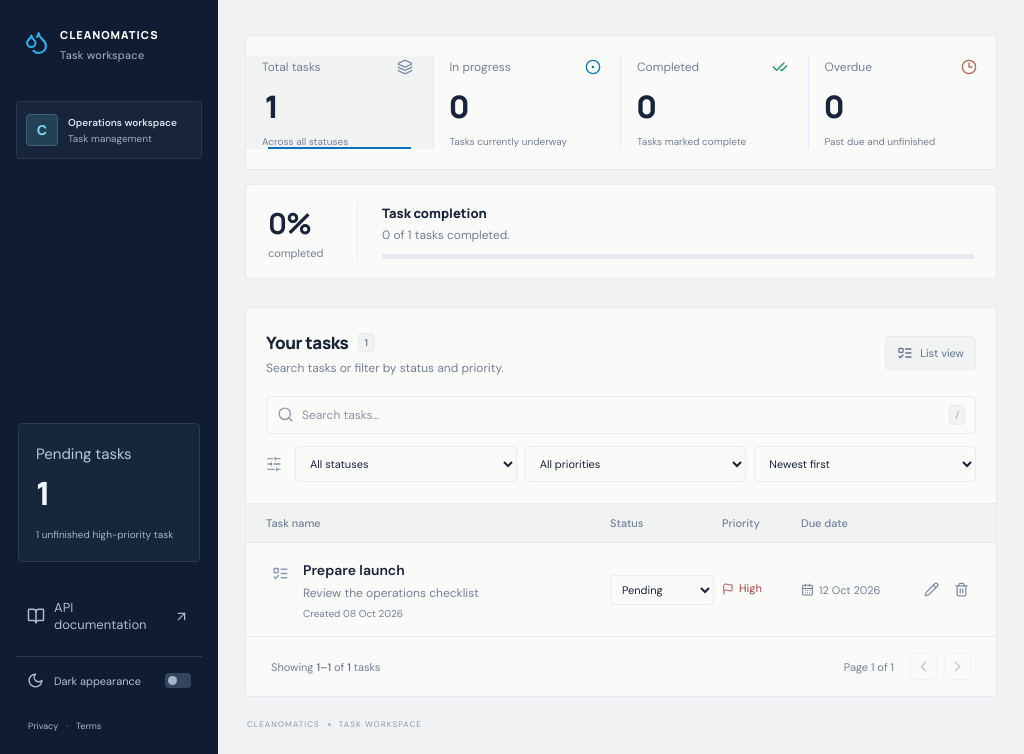
Scenario: workspace journeys › edits task and confirms deletion
(page scrolled)
Click the button named "Edit task".
click(932, 590)  # box [917,575,946,604]
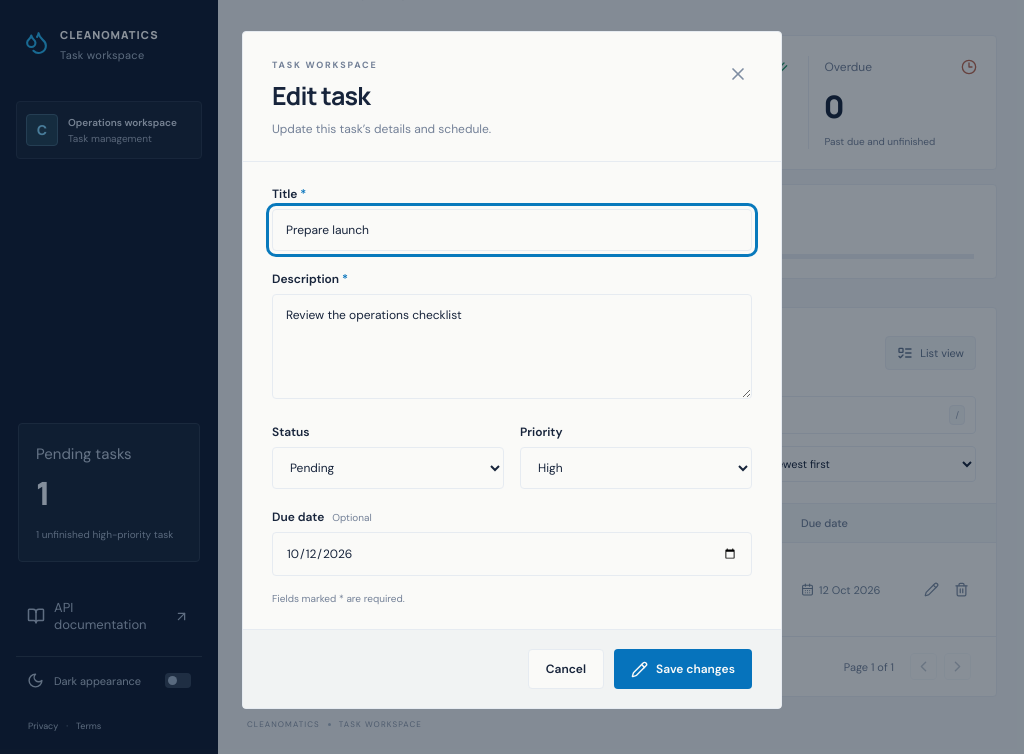
Replace the text in the field labelled "Title" with "Launch ready" at {"x": 512, "y": 230}, box [272,209,752,251]
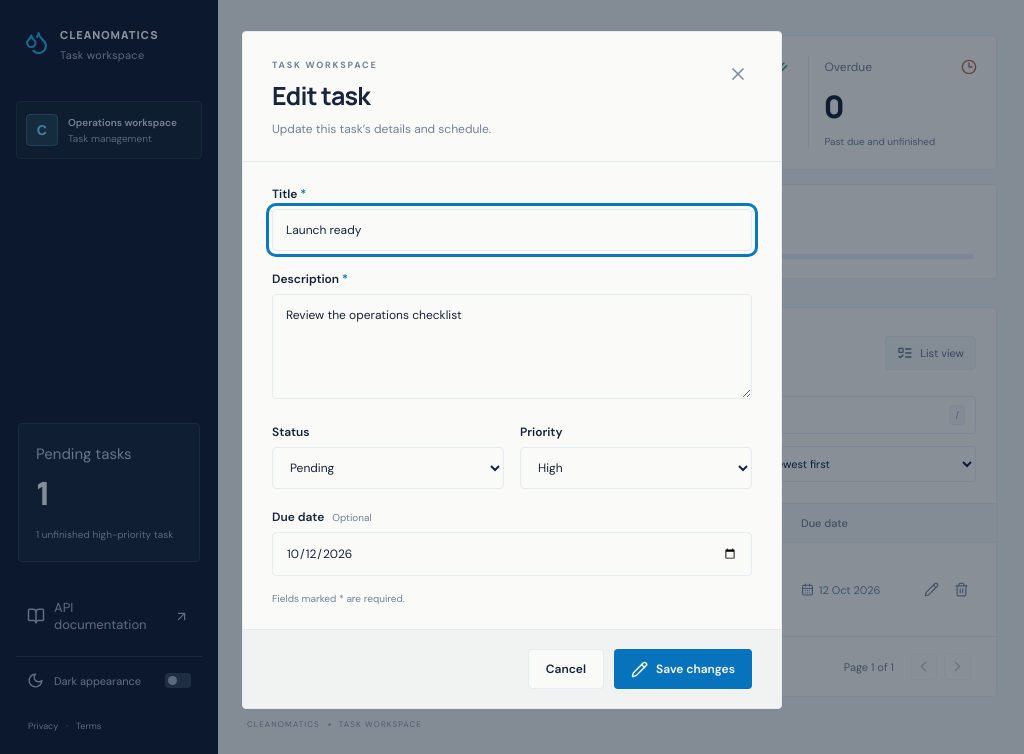
Click the button "Save changes".
click(683, 669)  # box [614,649,752,689]
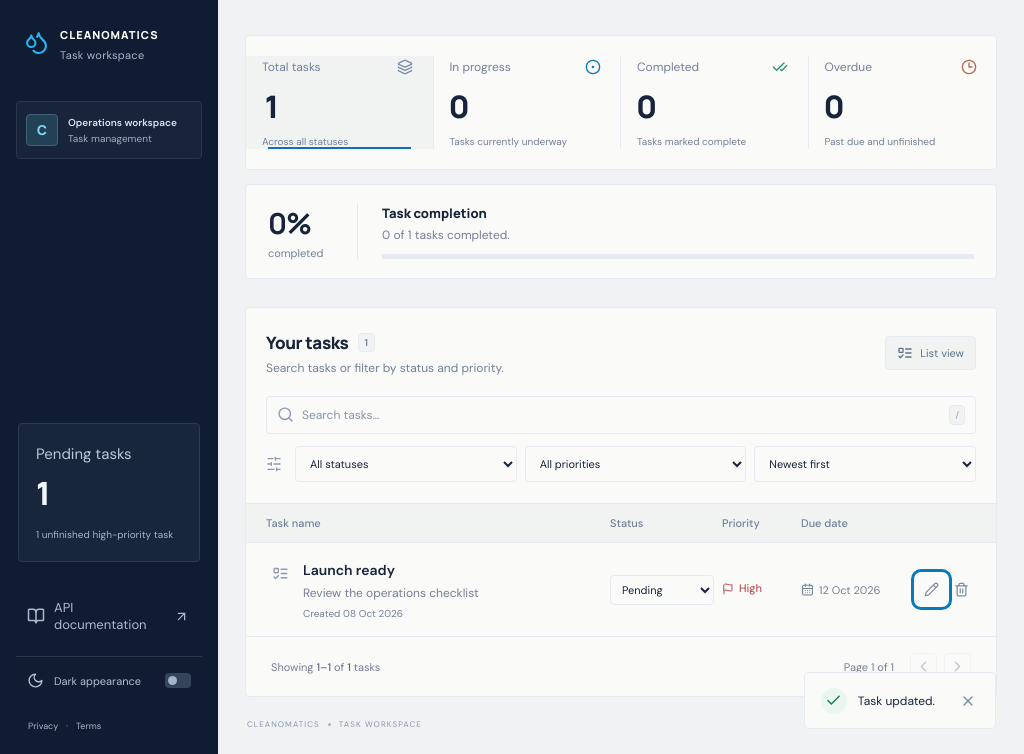
Expected: the text "Task updated." is shown, [804,672,996,729]
Click the button named "Delete task".
click(962, 590)  # box [947,575,976,604]
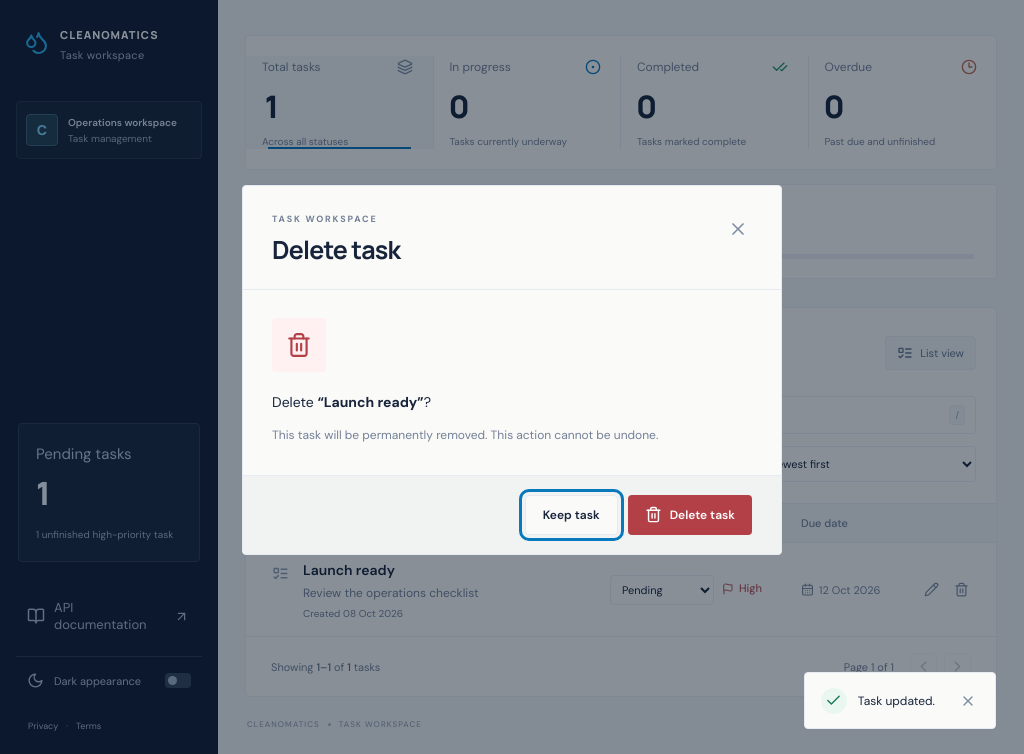
Click the button "Delete task".
click(690, 515)  # box [628,495,752,535]
(page scrolled)
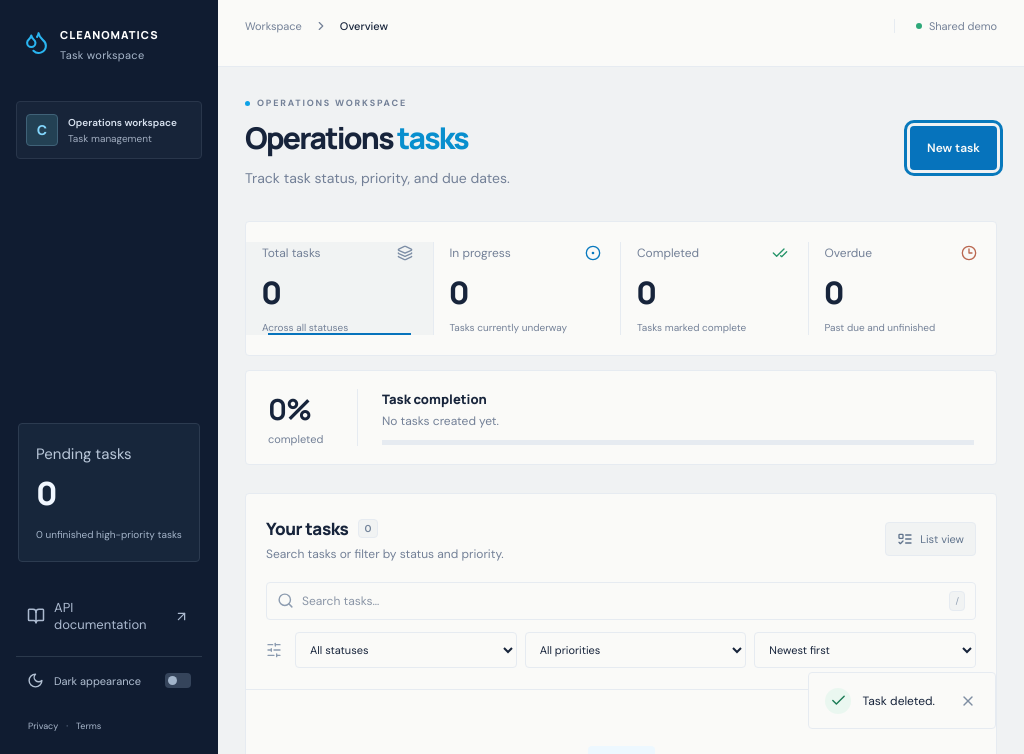
Expected: the text "Task deleted." is shown, [808,672,996,729]
